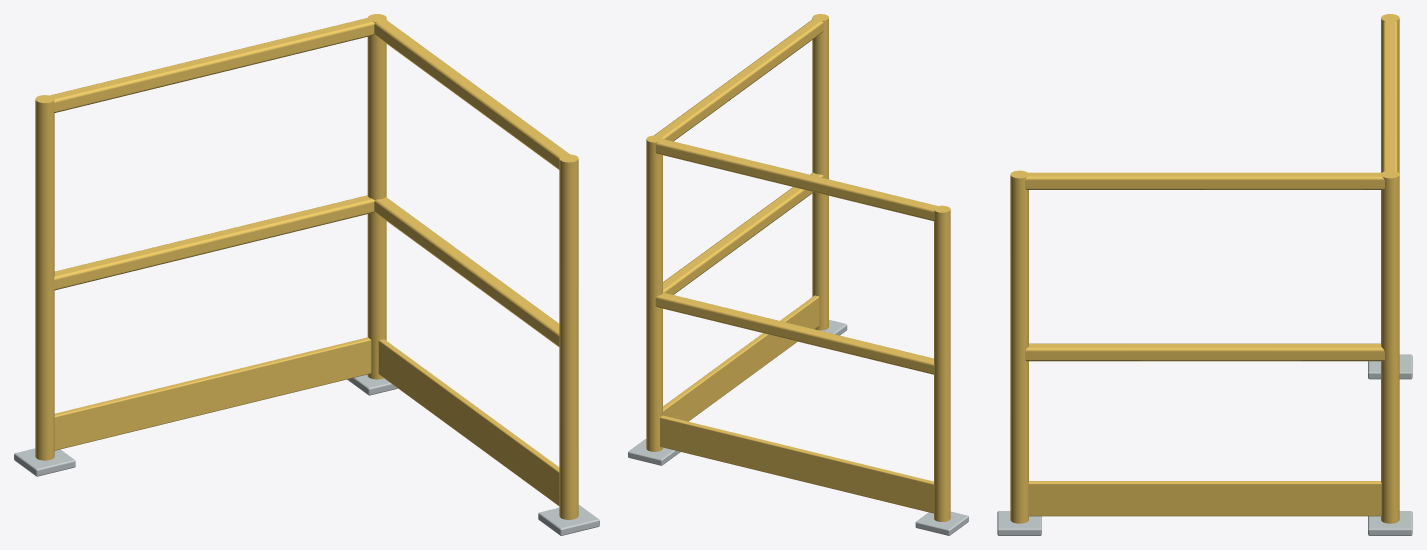
Rendered from hydroelectric-dam-infiltration-rail-corner-a1baef32__29369.glb.
The picture shows the model from 3 angles, left to right: view 1: azimuth 30°, elevation 25°; view 2: azimuth 150°, elevation 25°; view 3: azimuth 270°, elevation 25°; orthographic projection. The views are drawn at different scales.
Visible parts, largest first — view 1: rail-corner; view 2: rail-corner; view 3: rail-corner.
Boxes of the visible parts, <box> form: rail-corner: <box>14,14,599,535</box>; rail-corner: <box>628,14,968,535</box>; rail-corner: <box>997,14,1412,535</box>.
Bounding box in the file's own units: 1.12 × 1.05 × 1.12.
